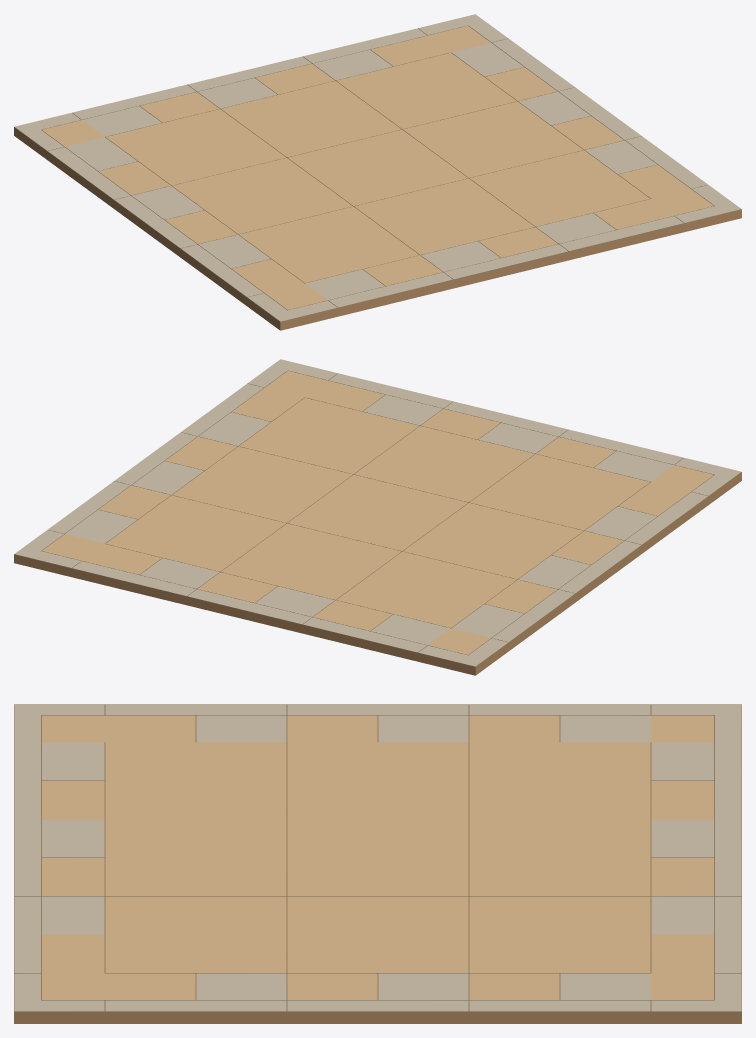
File: ground_paving.fbx
The picture shows the model from 3 angles, top to bottom: view 1: azimuth 30°, elevation 25°; view 2: azimuth 150°, elevation 25°; view 3: azimuth 270°, elevation 25°; orthographic projection. The views are drawn at different scales.
Parts seen in each view (by area): view 1: ground_paving; view 2: ground_paving; view 3: ground_paving.
Part boxes in pixels (x1,y1,x2,y2): ground_paving: (14, 14, 741, 330); ground_paving: (14, 359, 741, 675); ground_paving: (14, 704, 741, 1023).
Size of the model in its own units: 16 by 0.3 by 16.
